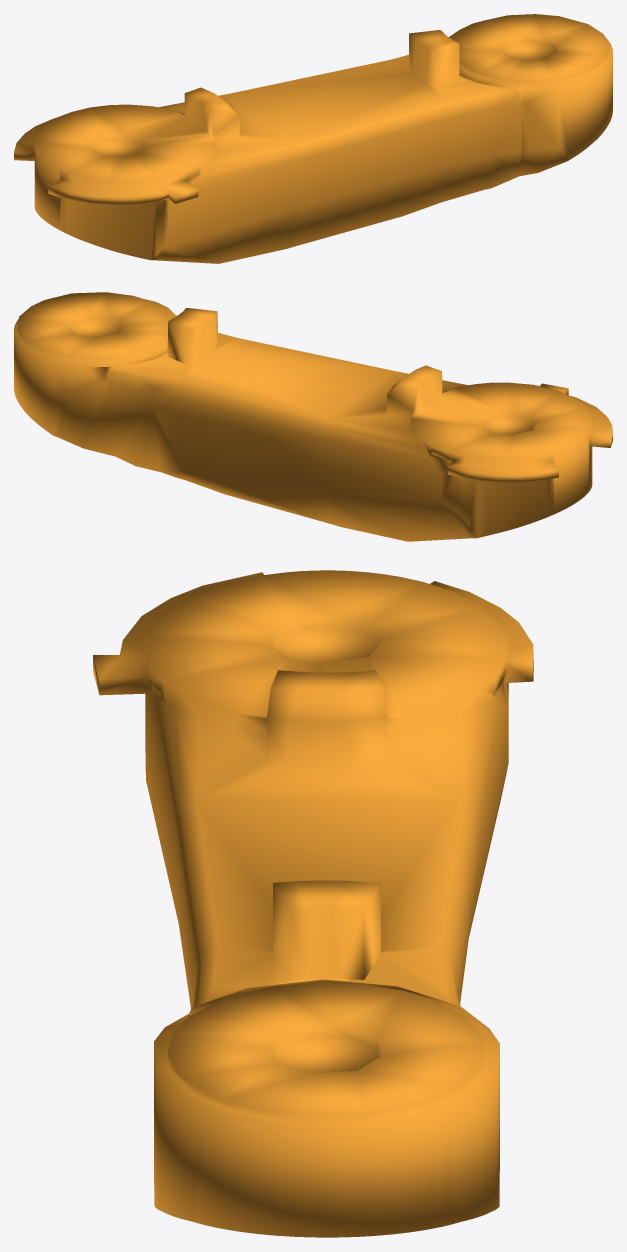
File: KukaKR60Link2.dae
3 renders of one model, top to bottom at view 1: azimuth 30°, elevation 25°; view 2: azimuth 150°, elevation 25°; view 3: azimuth 270°, elevation 25°, orthographic. The views are drawn at different scales.
Visible parts, largest first — view 1: link2; view 2: link2; view 3: link2.
Boxes of the visible parts, x1,y1,x2,y2 form: link2: [14, 14, 612, 263]; link2: [14, 292, 612, 541]; link2: [93, 570, 533, 1237].
Bounding box in the file's own units: 1.17 × 0.3932 × 0.282.
